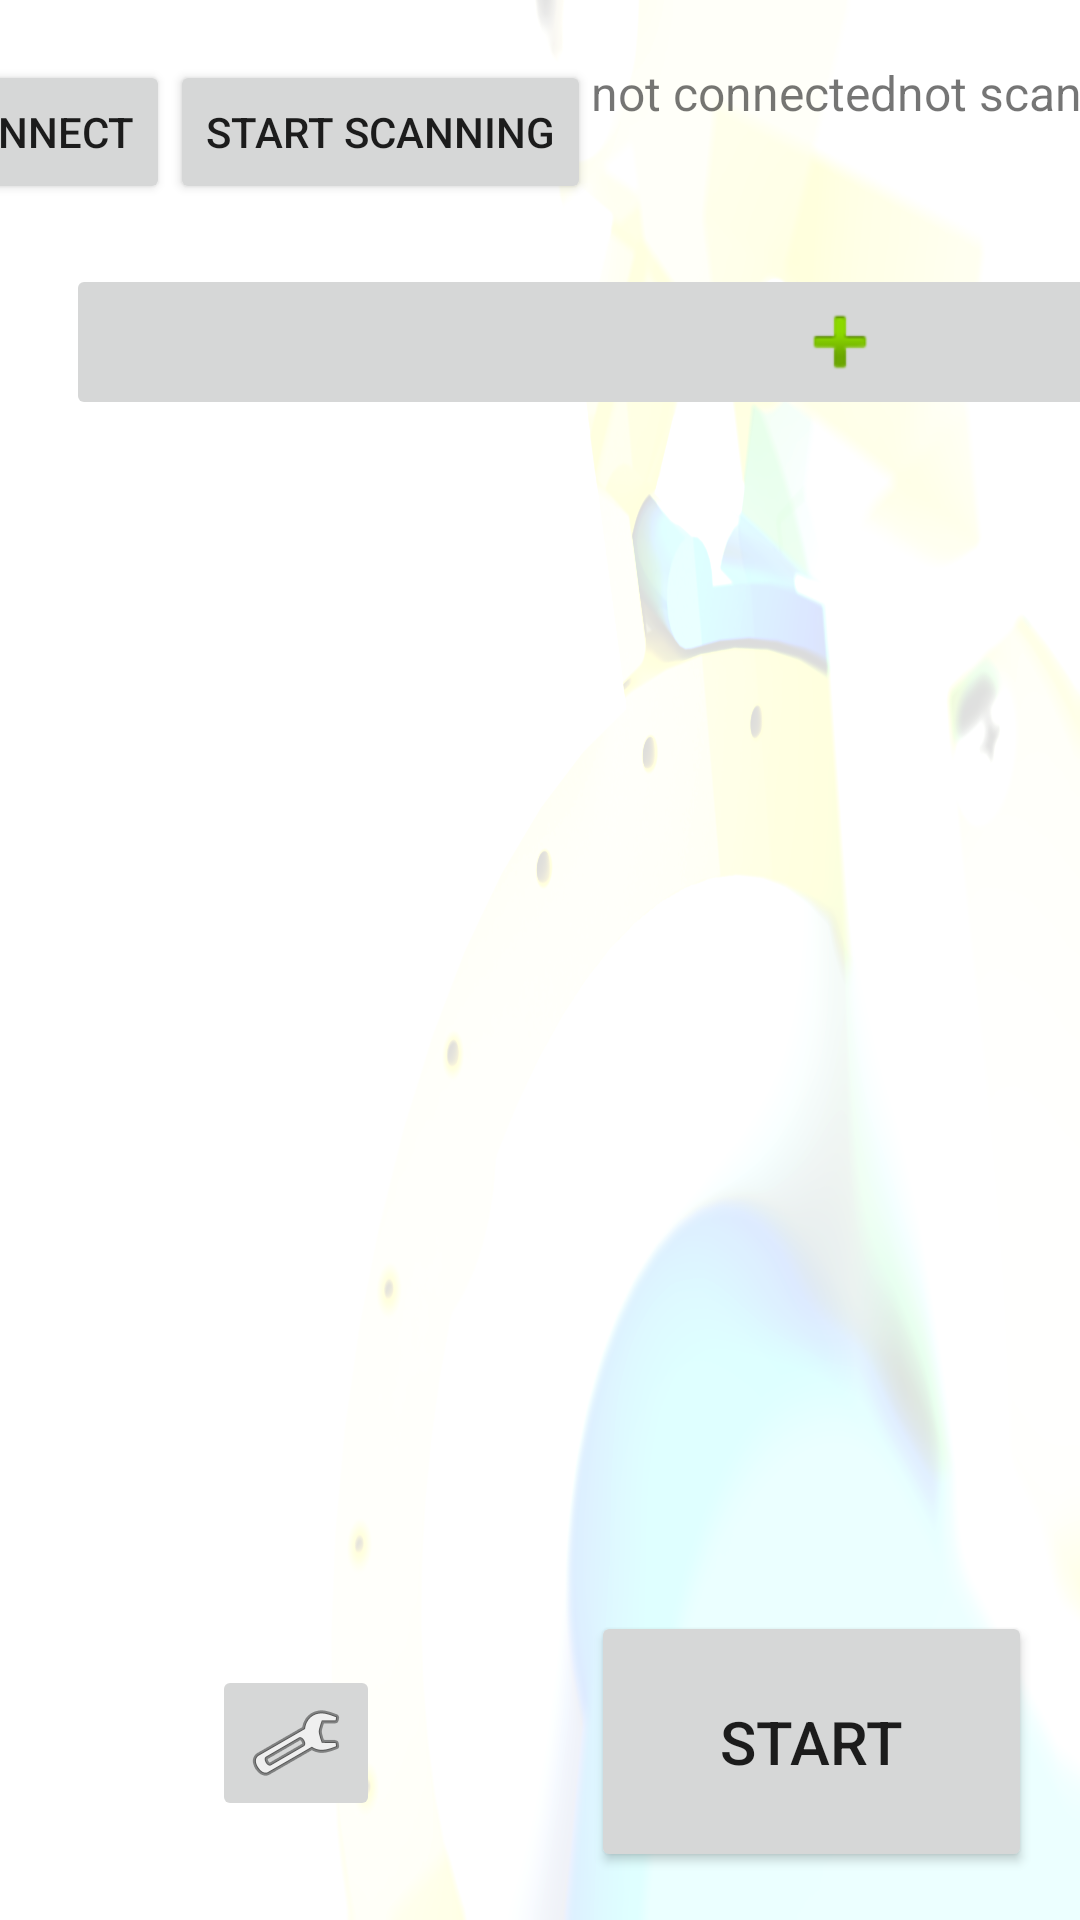

Screen size 1080 × 1920. Icon name, then its box in pixels as {"x1": x1, "y1": y1, "x2": x2, "y2": y2}:
Button to open the settings: {"x1": 224, "y1": 1683, "x2": 373, "y2": 1803}
